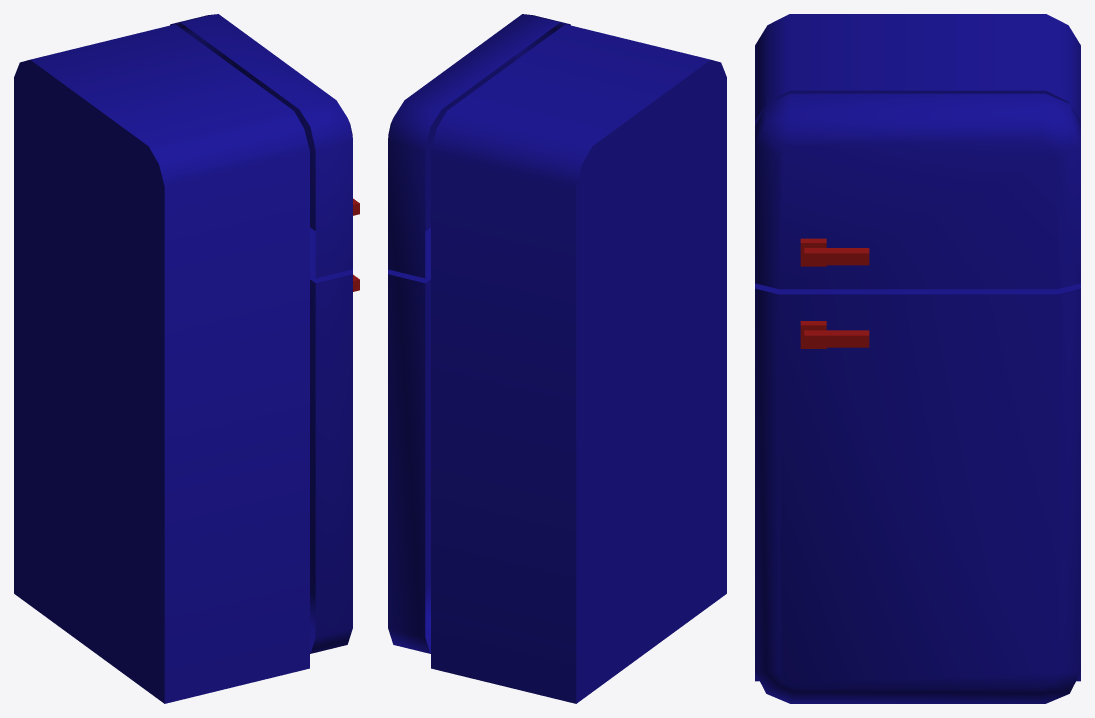
Rendered from SM_Frigo.FBX.
3 views of the same model, side by side, from view 1: azimuth 30°, elevation 25°; view 2: azimuth 150°, elevation 25°; view 3: azimuth 270°, elevation 25° (orthographic). The views are drawn at different scales.
Visible parts, largest first — view 1: SM_Frigo; view 2: SM_Frigo; view 3: SM_Frigo.
Part boxes in pixels (x1=…): SM_Frigo: x1=14, y1=14, x2=359, y2=703; SM_Frigo: x1=388, y1=14, x2=726, y2=703; SM_Frigo: x1=755, y1=14, x2=1080, y2=703.
Size of the model in its own units: 83.53 by 200 by 100.
